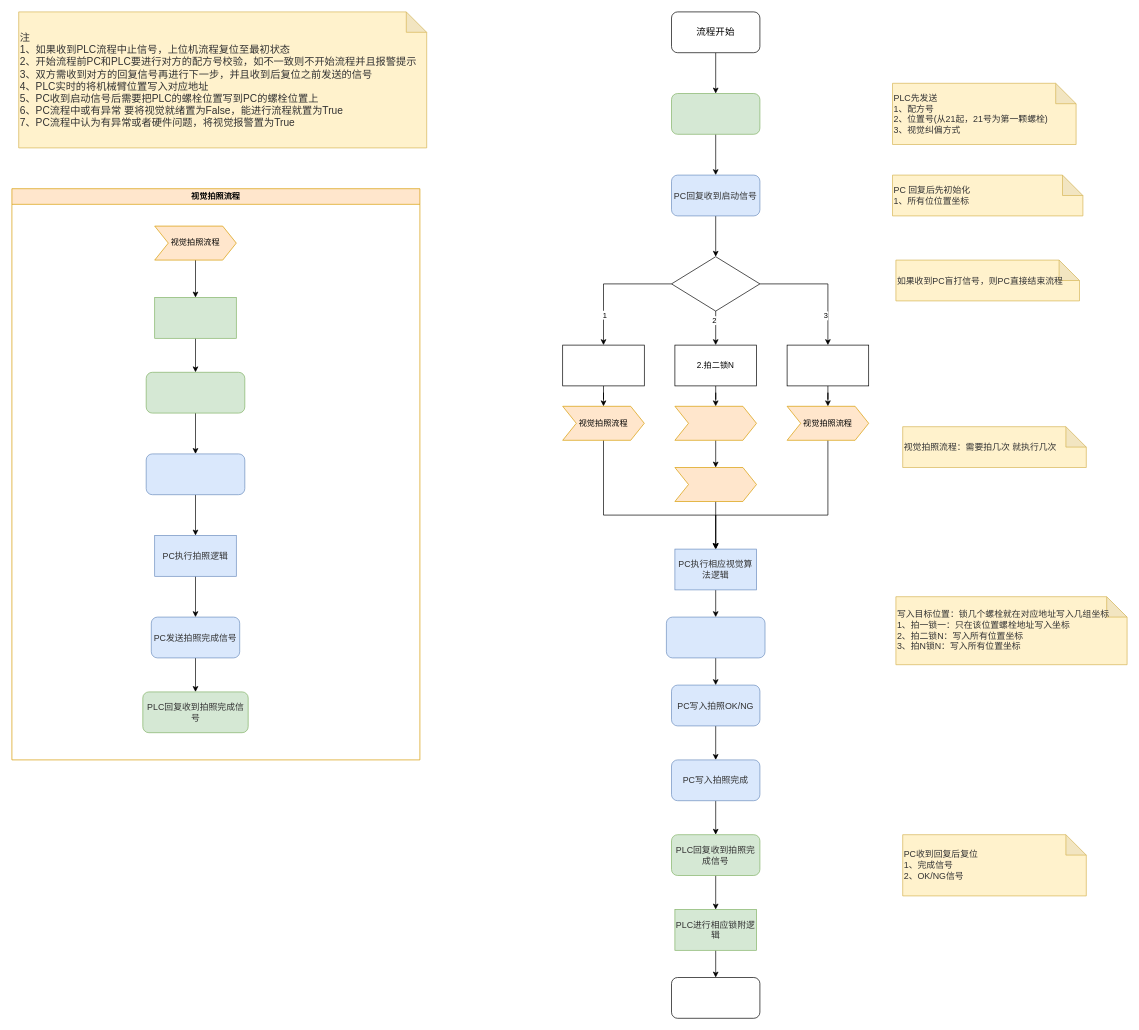
The diagram is 1139 pixels wide and 1030 high, and some of its shapes have lost their labels. Here are the shapes that lost their labels. From the top down, the centre of each, then its label:
(715,113): PLC发送启动拍照信号
(715,283): 判断纠偏方式
(195,317): PLC移动机械臂到 目标位置
(603,365): 1.拍一锁一
(827,365): 3.拍N锁N
(195,392): PLC发送机械臂到达位置
(715,423): 视觉拍照流程1
(195,474): PC回复机械臂到达信号
(715,484): 视觉拍照流程2
(715,637): PC写入目标位置坐标
(715,997): 流程结束
